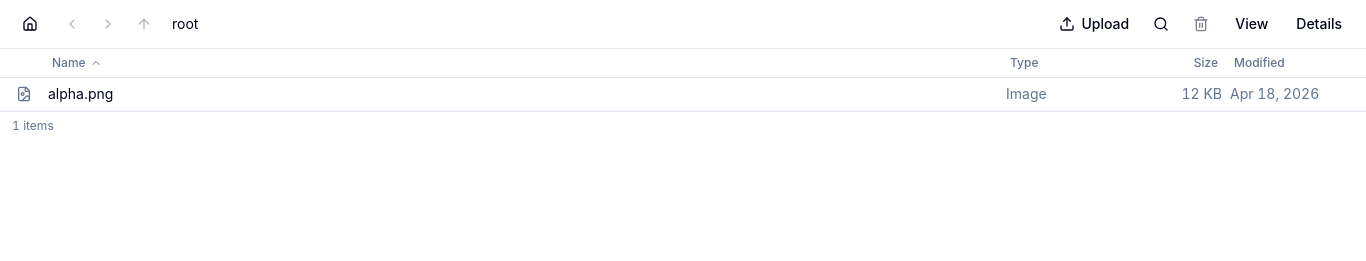
Test: FileExplorer — search UI (Phase 7.1) › Drive/OneDrive deferred response surfaces the deferred-work UI (Phase 7.8 integration)
Check: the number of rows with test id "explorer-row" is 1, box 0,78 -> 1365,111
Click the button with test id "file-explorer-search-trigger": (1161, 24) 1143,8 -> 1179,40
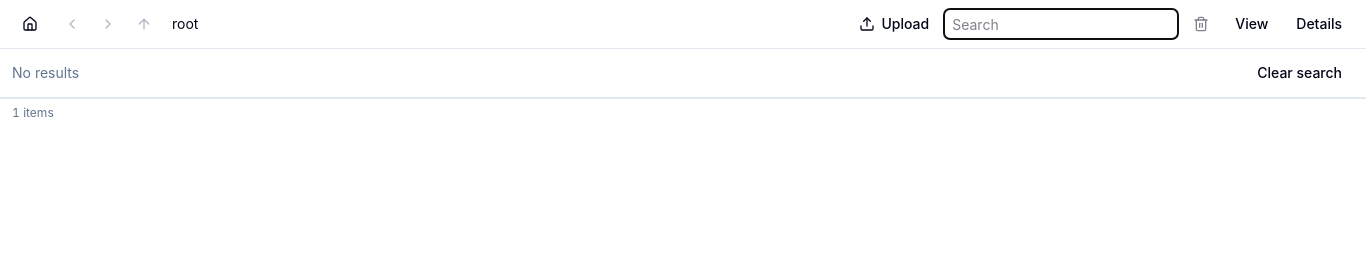
In the search field: (1061, 24) 943,8 -> 1179,40, type "budget"
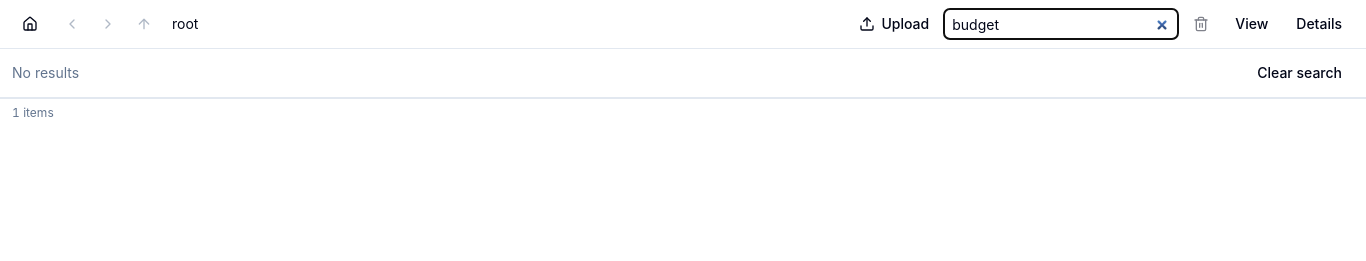
Press Enter in the search field, box 943,8 -> 1179,40
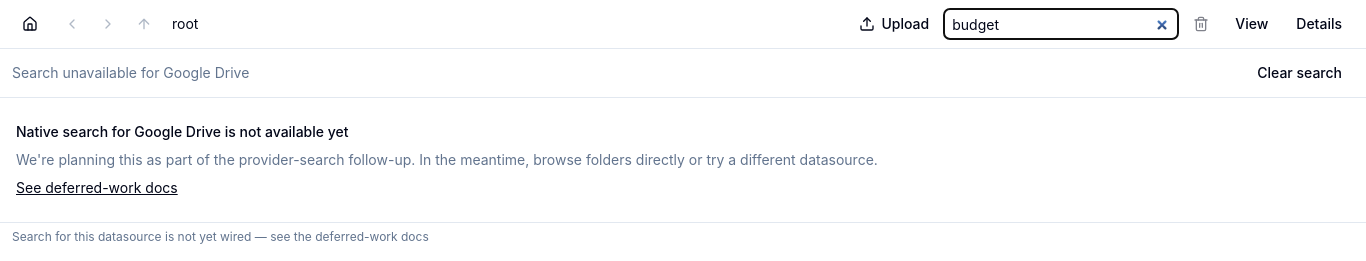
Check: the button with test id "file-explorer-search-clear" is shown, box 1245,57 -> 1354,89
Check: the message with test id "file-explorer-search-deferred" is shown, box 16,123 -> 878,196
Check: the text "Native search for Google Drive is not available yet" is shown, box 16,123 -> 348,140
